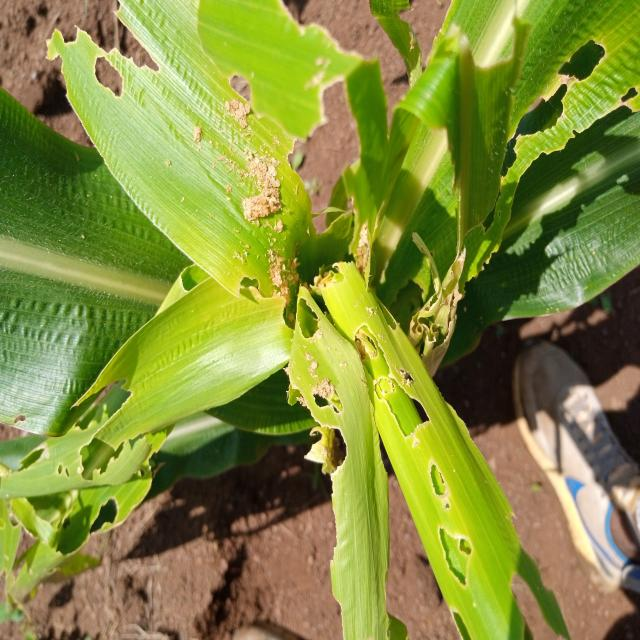fall-armyworm-frass: (186, 93, 297, 237), (276, 328, 343, 426), (249, 244, 317, 317), (345, 290, 399, 322)
fall-armyworm-larval-damage: (482, 29, 611, 173), (48, 22, 163, 121), (356, 326, 434, 453), (0, 458, 94, 549), (426, 211, 493, 335), (309, 427, 372, 504), (75, 370, 132, 450), (164, 255, 249, 304), (432, 515, 489, 585), (418, 451, 448, 495), (452, 604, 476, 640)
